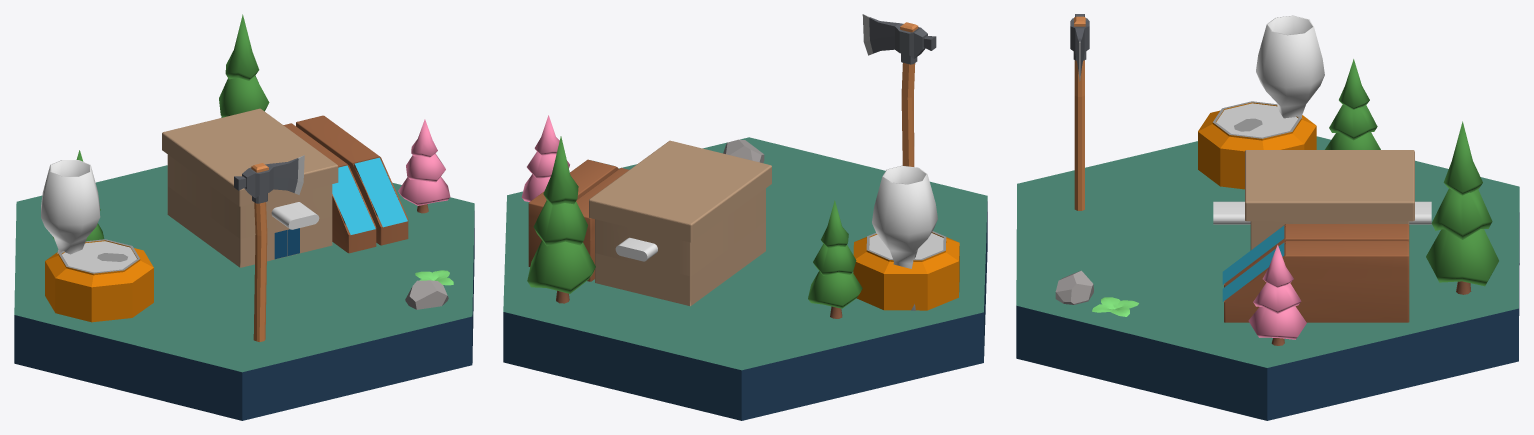
Rendered from Macro - Factory lvl 1 WM3.fbx.
3 renders of one model, left to right at view 1: azimuth 30°, elevation 25°; view 2: azimuth 150°, elevation 25°; view 3: azimuth 270°, elevation 25°, orthographic. The views are drawn at different scales.
Visible parts, largest first — view 1: Cylinder.155, Cube.074, drink_004.003, wineglass_001.001, axe v:130 f:129, Cube.035, Tree_Spruce_tiny_01.002, Tree_Spruce_tiny_01.003, Plane.086, Cube.069, Plane.087, Rock Type2 04 mesh.001 (+1 smaller); view 2: Cylinder.155, Cube.074, drink_004.003, Tree_Spruce_tiny_01.002, wineglass_001.001, axe v:130 f:129, Tree_Spruce_tiny_01.004, Cube.035, Tree_Spruce_tiny_01.003, Cube.069, Cutter.014, Rock Type2 04 mesh.001; view 3: Cylinder.155, Cube.074, Cube.035, Tree_Spruce_tiny_01.002, drink_004.003, wineglass_001.001, Tree_Spruce_tiny_01.003, Tree_Spruce_tiny_01.004, axe v:130 f:129, Cube.069, Cutter.014, Rock Type2 04 mesh.001 (+3 smaller).
Boxes of the visible parts, x1,y1,x2,y2 form: Cylinder.155: [14, 165, 474, 420]; Cube.074: [162, 108, 338, 267]; drink_004.003: [45, 239, 153, 322]; wineglass_001.001: [41, 160, 100, 254]; axe v:130 f:129: [234, 155, 304, 341]; Cube.035: [296, 115, 408, 245]; Tree_Spruce_tiny_01.002: [219, 14, 269, 117]; Tree_Spruce_tiny_01.003: [398, 119, 450, 213]; Plane.086: [355, 157, 407, 227]; Cube.069: [283, 123, 376, 253]; Plane.087: [332, 165, 375, 234]; Rock Type2 04 mesh.001: [405, 280, 448, 309]; Cylinder.155: [503, 137, 987, 420]; Cube.074: [589, 140, 771, 306]; drink_004.003: [853, 231, 959, 310]; Tree_Spruce_tiny_01.002: [527, 136, 595, 303]; wineglass_001.001: [872, 165, 937, 310]; axe v:130 f:129: [862, 14, 936, 166]; Tree_Spruce_tiny_01.004: [808, 200, 862, 318]; Cube.035: [528, 159, 618, 266]; Tree_Spruce_tiny_01.003: [521, 115, 569, 201]; Cube.069: [576, 167, 629, 281]; Cutter.014: [615, 237, 657, 261]; Rock Type2 04 mesh.001: [723, 139, 764, 162]; Cylinder.155: [1016, 136, 1519, 420]; Cube.074: [1245, 150, 1414, 250]; Cube.035: [1224, 241, 1409, 322]; Tree_Spruce_tiny_01.002: [1426, 121, 1498, 294]; drink_004.003: [1198, 101, 1316, 189]; wineglass_001.001: [1256, 15, 1324, 118]; Tree_Spruce_tiny_01.003: [1248, 245, 1306, 345]; Tree_Spruce_tiny_01.004: [1325, 59, 1380, 149]; axe v:130 f:129: [1070, 14, 1089, 210]; Cube.069: [1224, 224, 1409, 287]; Cutter.014: [1213, 201, 1431, 224]; Rock Type2 04 mesh.001: [1055, 270, 1093, 304].
Bounding box in the file's own units: 197 × 91.66 × 172.
